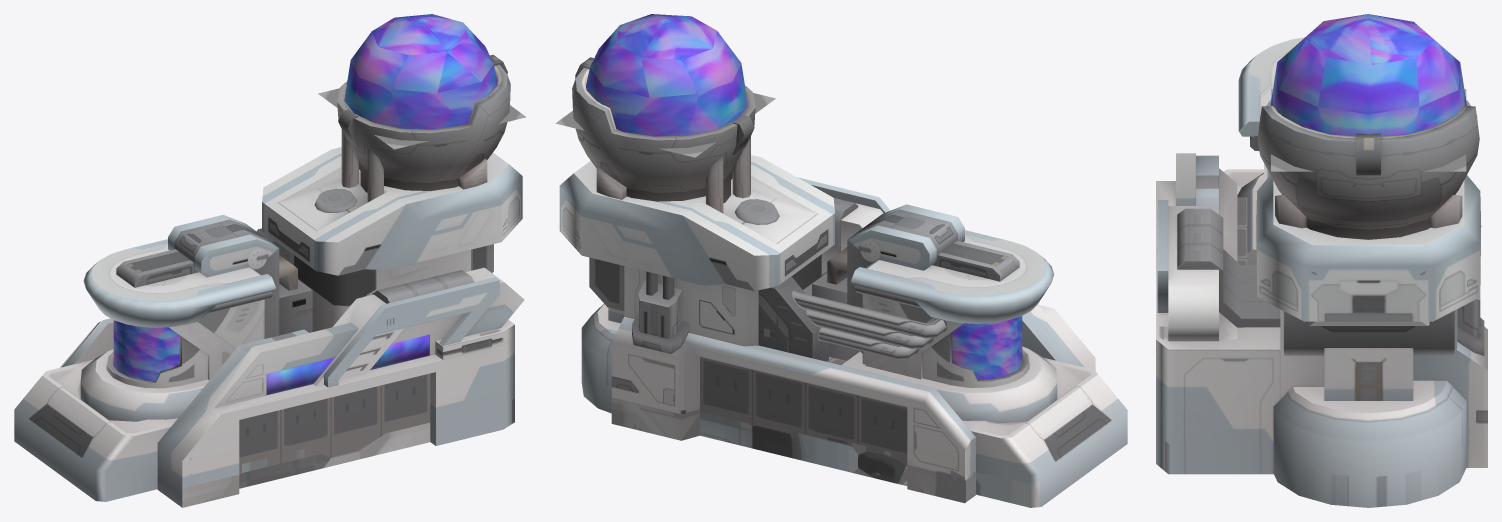
The model's file is chemical-plant-2.glb.
The picture shows the model from 3 angles, left to right: view 1: azimuth 30°, elevation 25°; view 2: azimuth 150°, elevation 25°; view 3: azimuth 270°, elevation 25°; orthographic projection. The views are drawn at different scales.
Parts seen in each view (by area): view 1: chemical-plant-2, chemical-plant-2-glass-1; view 2: chemical-plant-2, chemical-plant-2-glass-1; view 3: chemical-plant-2, chemical-plant-2-glass-1.
Part boxes in pixels (box(x1,y1,x2,y2)): chemical-plant-2: box(14, 54, 526, 507); chemical-plant-2-glass-1: box(113, 14, 497, 394); chemical-plant-2: box(555, 57, 1127, 507); chemical-plant-2-glass-1: box(586, 14, 1022, 379); chemical-plant-2: box(1156, 37, 1487, 507); chemical-plant-2-glass-1: box(1270, 14, 1466, 136).
Size of the model in its own units: 9.29 by 6.69 by 4.53.
3 materials, 2 textured.
